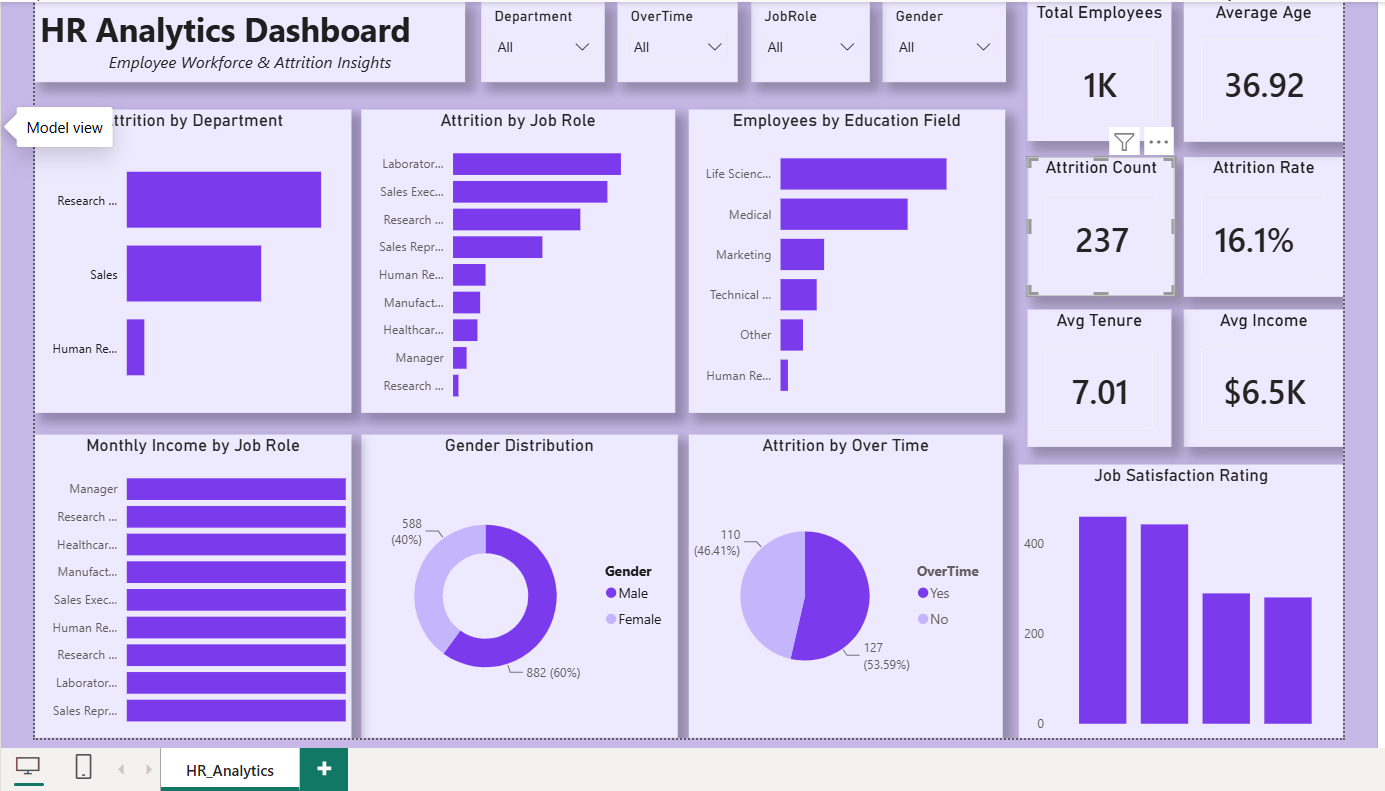

The page's visual inventory and layout, read from the dashboard file:
{"tool":"powerbi","page":{"name":"HR_Analytics","canvas":[1280,720],"ordinal":0},"visuals":[{"type":"textbox","box":[0,0,420.7,78.3],"z":0},{"type":"cardVisual","title":"Total Employees","fields":{"Data":["HR_Employee_Data.Total Employees"]},"box":[970.9,0,140.6,135.7],"z":1000},{"type":"cardVisual","title":"Attrition Count","fields":{"Data":["HR_Employee_Data.Attrition Count"]},"box":[970.9,151.6,144.3,135.7],"z":2000},{"type":"cardVisual","title":"Attrition Rate","fields":{"Data":["HR_Employee_Data.Attrition Rate"]},"box":[1123.8,151.6,156.5,137],"z":3000},{"type":"cardVisual","title":"Average Age","fields":{"Data":["HR_Employee_Data.Average Age"]},"box":[1123.8,0,156.5,137],"z":4000},{"type":"cardVisual","title":"Avg Income","fields":{"Data":["HR_Employee_Data.Average Monthly Income"]},"box":[1123.8,300.8,156.5,134.5],"z":5000},{"type":"cardVisual","title":"Avg Tenure","fields":{"Data":["HR_Employee_Data.Average Years at Company"]},"box":[970.9,300.8,140.6,134.5],"z":6000},{"type":"clusteredBarChart","title":"Attrition by Department","fields":{"Category":["HR_Employee_Data.Department"],"Y":["HR_Employee_Data.Attrition Count"]},"box":[0,105.2,309.4,297.1],"z":7000},{"type":"clusteredBarChart","title":"Attrition by Job Role","fields":{"Category":["HR_Employee_Data.JobRole"],"Y":["HR_Employee_Data.Attrition Count"]},"box":[319.2,105.2,306.9,297.1],"z":8000},{"type":"donutChart","title":"Gender Distribution","fields":{"Category":["HR_Employee_Data.Gender"],"Y":["HR_Employee_Data.Total Employees"]},"box":[319.2,423.1,309.4,297.1],"z":9000},{"type":"barChart","title":"Employees by Education Field","fields":{"Y":["HR_Employee_Data.Total Employees"],"Category":["HR_Employee_Data.EducationField"]},"box":[639.5,105.2,309.4,297.1],"z":10000},{"type":"hundredPercentStackedBarChart","title":"Monthly Income by Job Role","fields":{"Category":["HR_Employee_Data.JobRole"],"Y":["HR_Employee_Data.Average Monthly Income"]},"box":[0,423.1,309.4,297.1],"z":11000},{"type":"pieChart","title":"Attrition by Over Time","fields":{"Y":["HR_Employee_Data.Attrition Count"],"Category":["HR_Employee_Data.OverTime"]},"box":[639.5,423.1,306.9,297.1],"z":12000},{"type":"clusteredColumnChart","title":"Job Satisfaction Rating","fields":{"Category":["HR_Employee_Data.JobSatisfaction"],"Y":["HR_Employee_Data.Total Employees"]},"box":[962.4,452.4,317.9,267.8],"z":13000},{"type":"slicer","fields":{"Values":["HR_Employee_Data.Department"]},"box":[436.6,0,121.1,78.3],"z":14000},{"type":"slicer","fields":{"Values":["HR_Employee_Data.Gender"]},"box":[829.1,0,121.1,78.3],"z":15000},{"type":"slicer","fields":{"Values":["HR_Employee_Data.JobRole"]},"box":[700.7,0,116.2,78.3],"z":16000},{"type":"slicer","fields":{"Values":["HR_Employee_Data.OverTime"]},"box":[569.8,0,117.4,78.3],"z":17000}]}

Visuals, with their boxes in screenshot pixels (x1, y1, x2, y2):
textbox: BBox(25, 0, 458, 81)
"Total Employees" cardVisual: BBox(1025, 0, 1169, 140)
"Attrition Count" cardVisual: BBox(1025, 156, 1173, 296)
"Attrition Rate" cardVisual: BBox(1182, 156, 1343, 297)
"Average Age" cardVisual: BBox(1182, 0, 1343, 141)
"Avg Income" cardVisual: BBox(1182, 310, 1343, 448)
"Avg Tenure" cardVisual: BBox(1025, 310, 1169, 448)
"Attrition by Department" clusteredBarChart: BBox(25, 108, 344, 414)
"Attrition by Job Role" clusteredBarChart: BBox(354, 108, 670, 414)
"Gender Distribution" donutChart: BBox(354, 435, 672, 741)
"Employees by Education Field" barChart: BBox(683, 108, 1002, 414)
"Monthly Income by Job Role" hundredPercentStackedBarChart: BBox(25, 435, 344, 741)
"Attrition by Over Time" pieChart: BBox(683, 435, 999, 741)
"Job Satisfaction Rating" clusteredColumnChart: BBox(1016, 466, 1343, 741)
slicer - HR_Employee_Data.Department: BBox(475, 0, 599, 81)
slicer - HR_Employee_Data.Gender: BBox(879, 0, 1003, 81)
slicer - HR_Employee_Data.JobRole: BBox(746, 0, 866, 81)
slicer - HR_Employee_Data.OverTime: BBox(612, 0, 733, 81)
